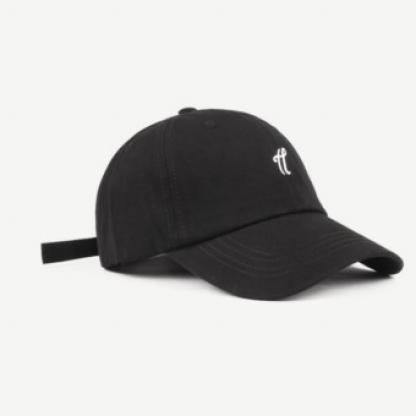cap: (50, 98, 406, 305)
